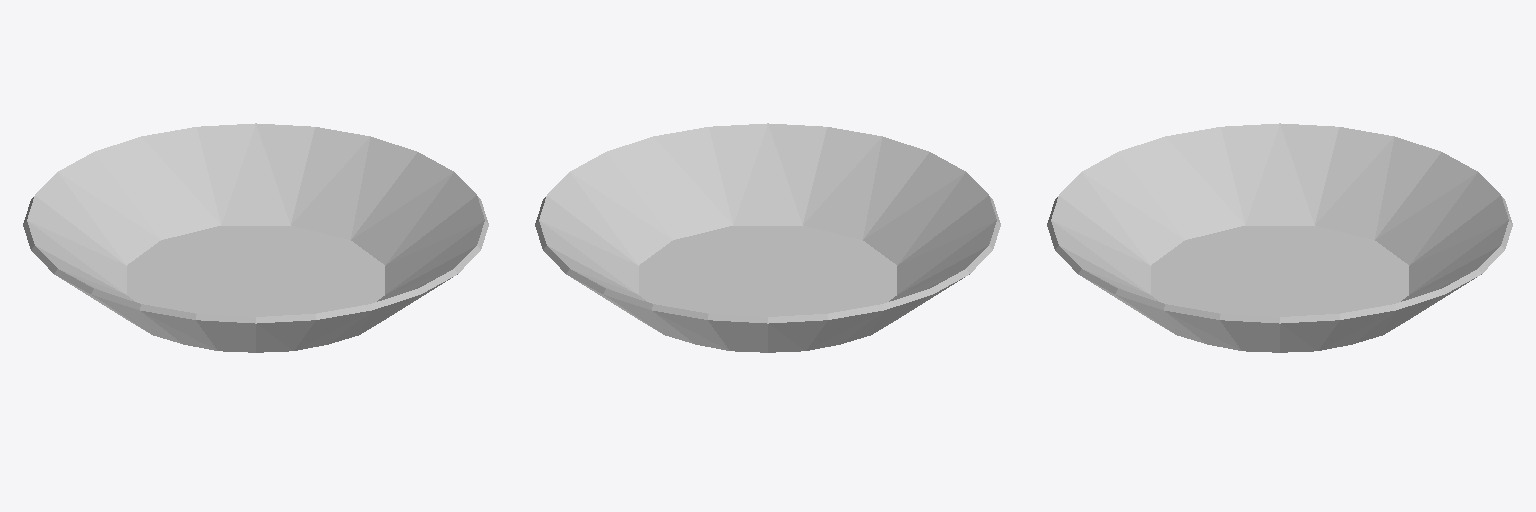
File: Plate01.obj
3 renders of one model, left to right at view 1: azimuth 30°, elevation 25°; view 2: azimuth 150°, elevation 25°; view 3: azimuth 270°, elevation 25°, orthographic.
Visible parts, largest first — view 1: Plate01_LOD0_dish_plate.009; view 2: Plate01_LOD0_dish_plate.009; view 3: Plate01_LOD0_dish_plate.009.
Boxes of the visible parts, x1=… form: Plate01_LOD0_dish_plate.009: x1=23, y1=123, x2=488, y2=352; Plate01_LOD0_dish_plate.009: x1=535, y1=123, x2=1000, y2=352; Plate01_LOD0_dish_plate.009: x1=1047, y1=123, x2=1512, y2=352.
Size of the model in its own units: 0.3054 by 0.0517 by 0.3054.